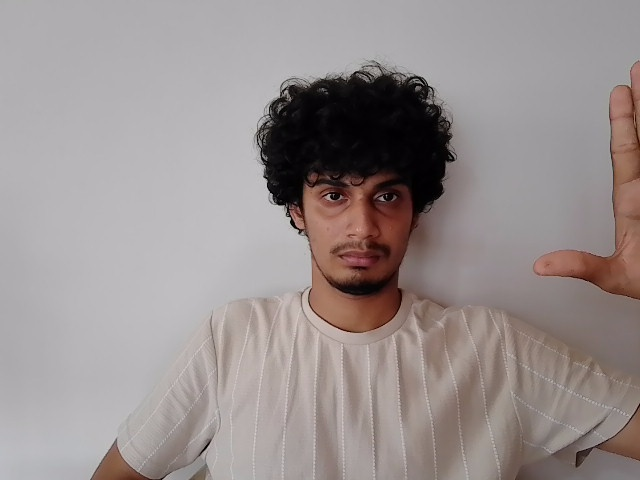no: (534, 59, 640, 302)
